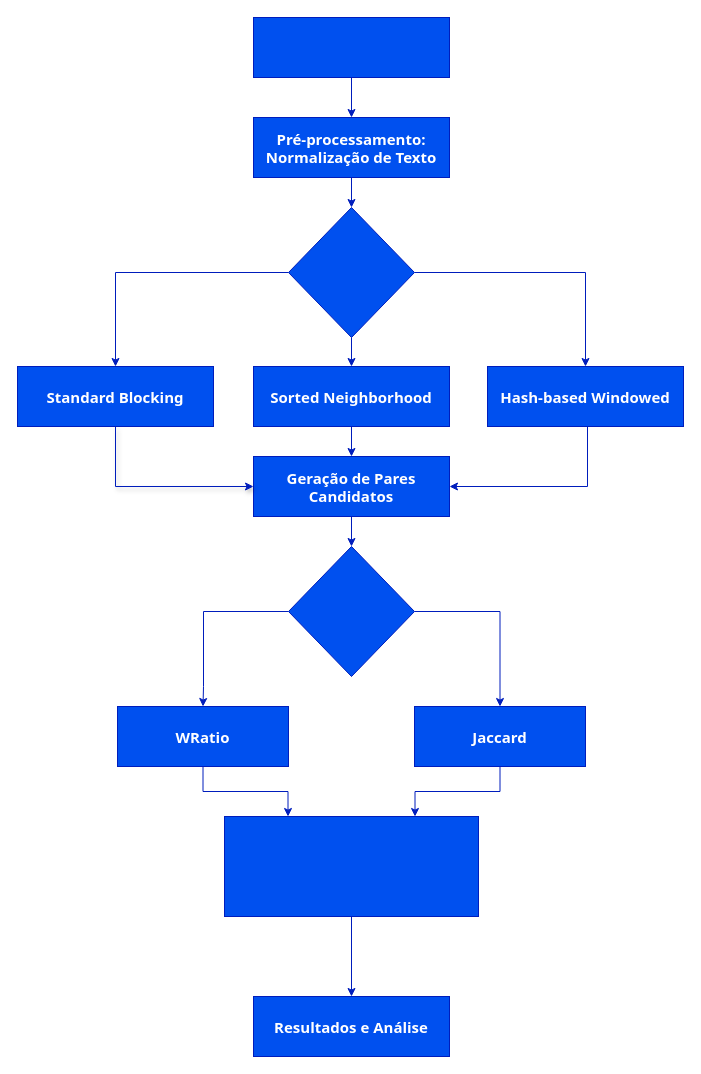
The diagram is 701 pixels wide and 1074 high, and some of its shapes have lost their labels. Each missing label, with the centre of its shape:
"Avaliação: Precisão, Recall, F1-Score" belongs at (x=351, y=866).
"Blocking Strategy" belongs at (x=351, y=272).
"Geração de Dados Sintéticos" belongs at (x=351, y=47).
"Similaridade" belongs at (x=351, y=611).
